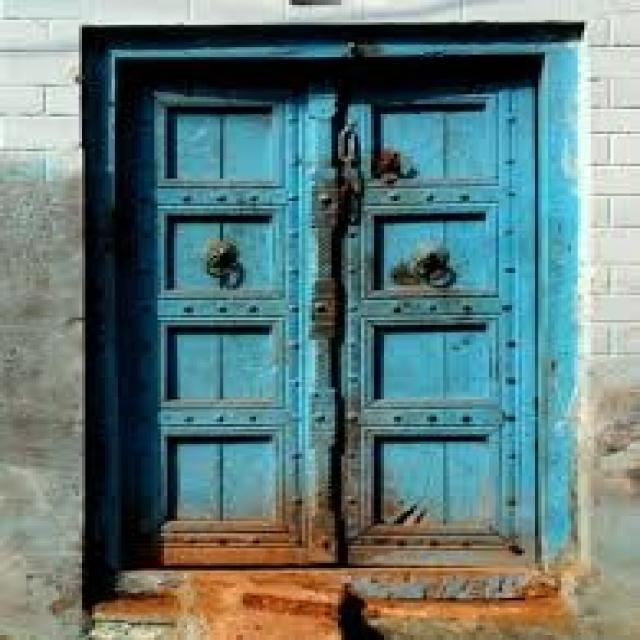Door: (101, 44, 548, 568)
